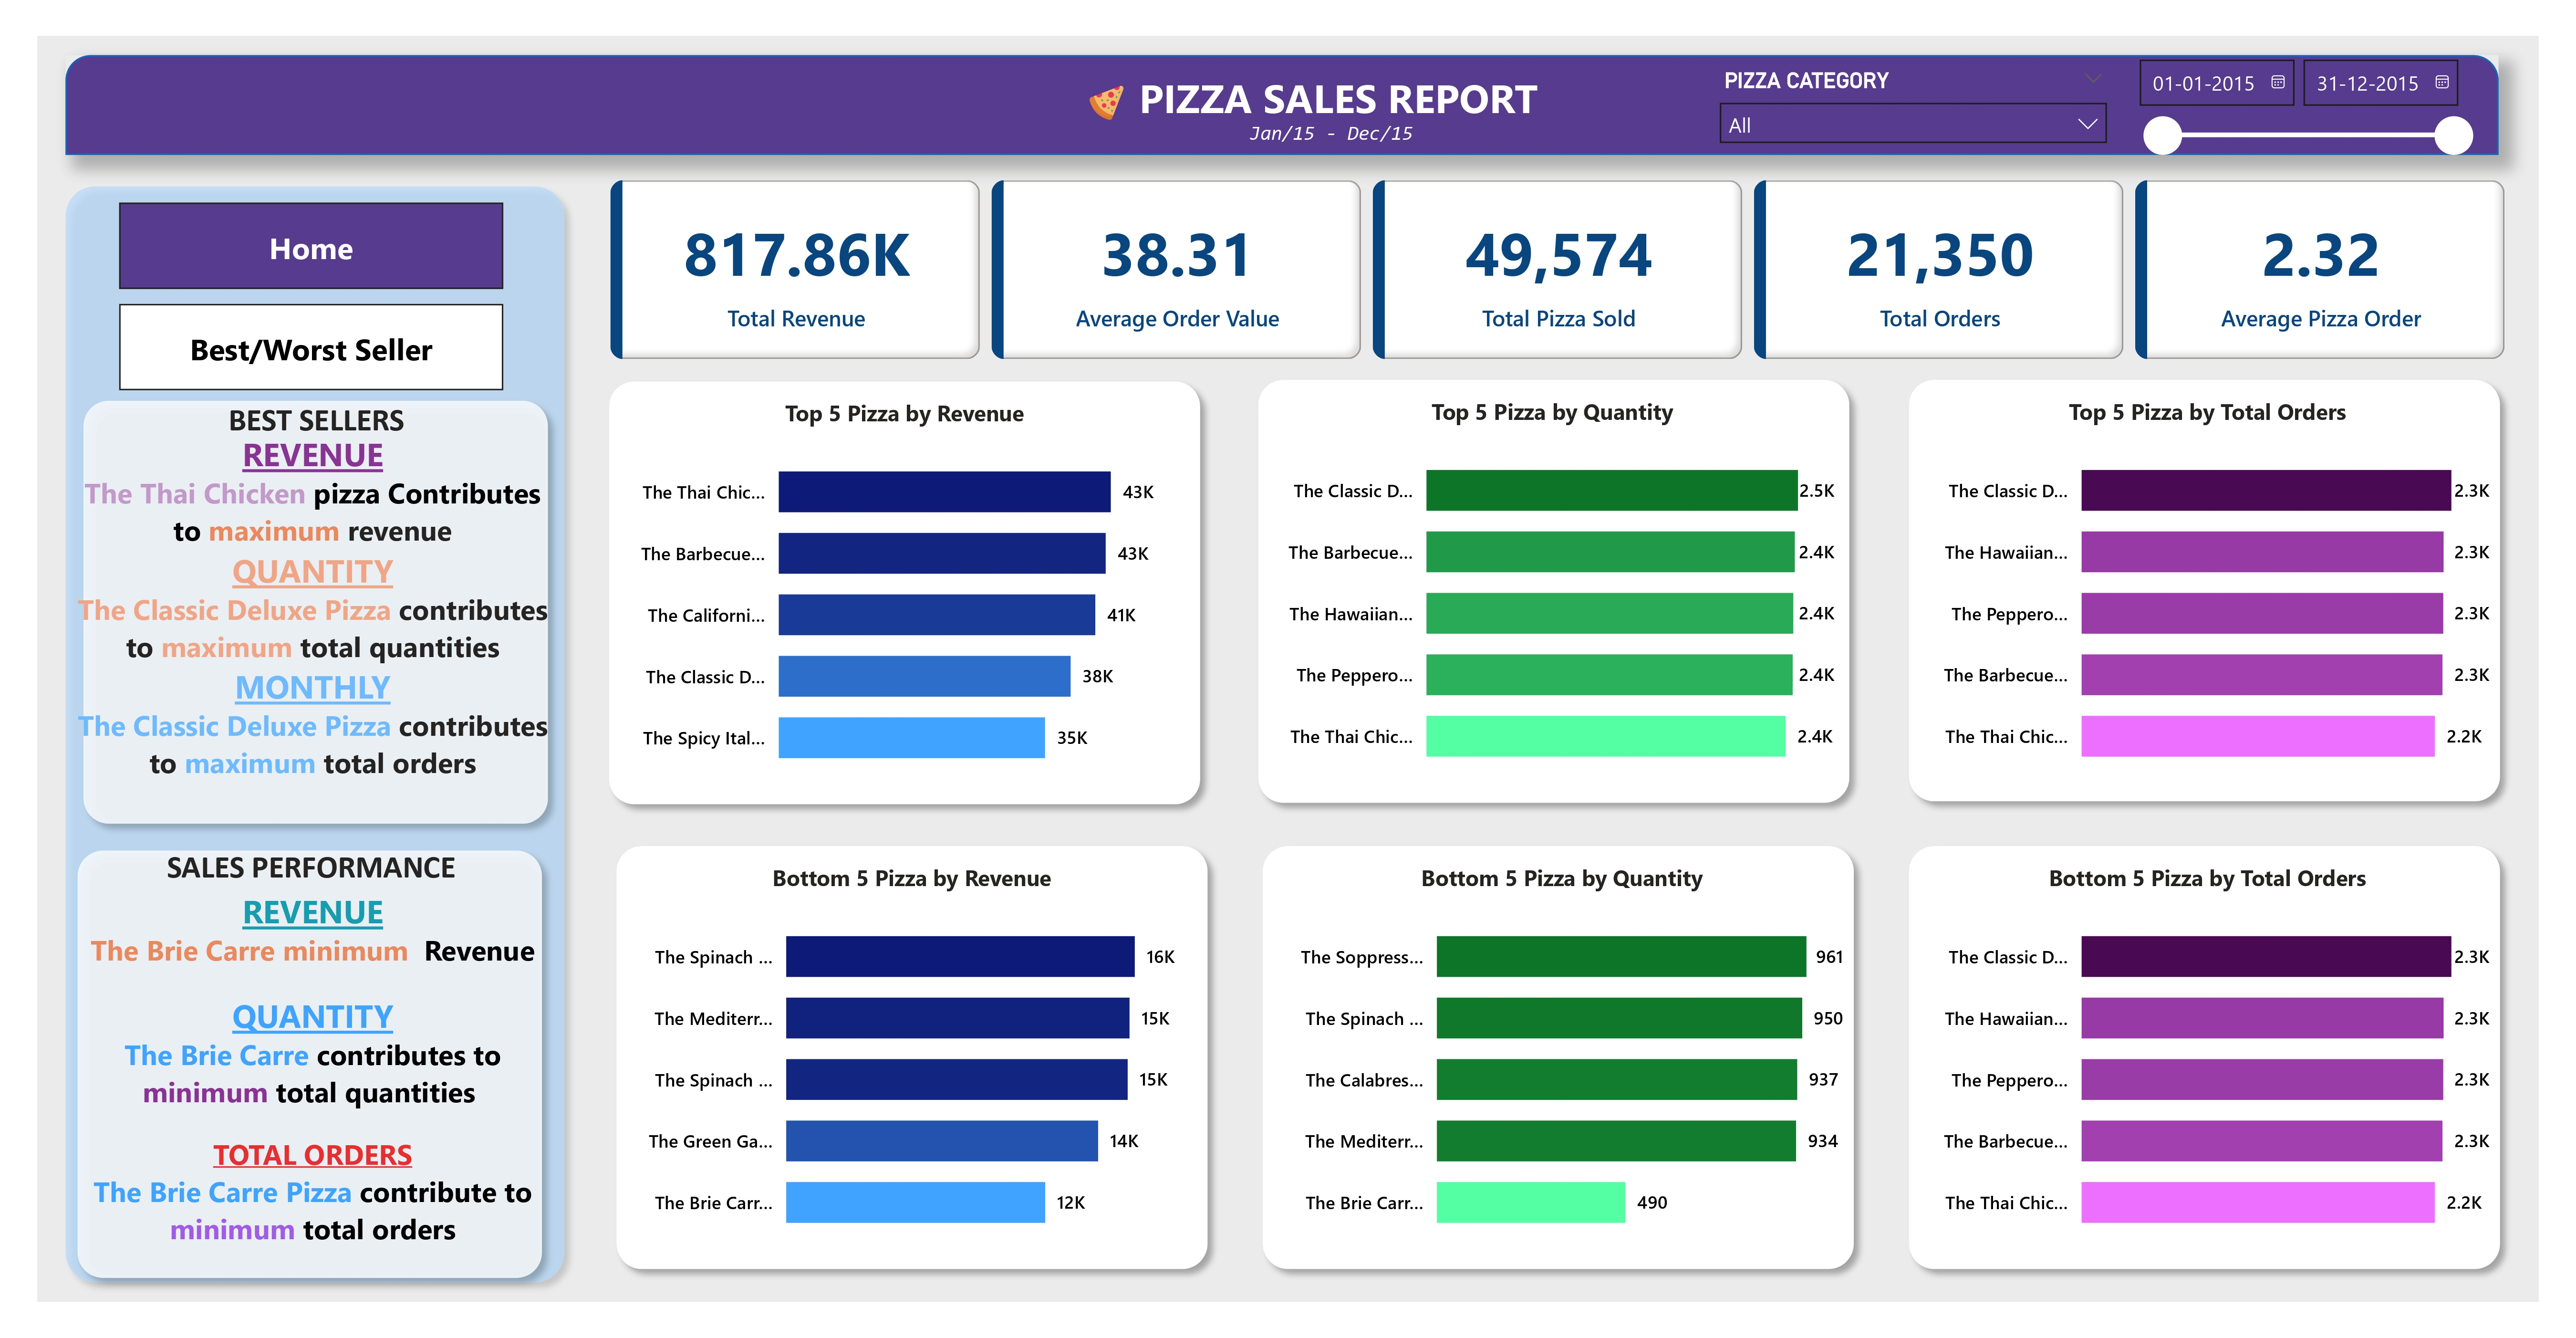

Layout of this report page (visuals, bound fields, positions):
{"tool":"powerbi","page":{"name":"Best/Worst Seller","canvas":[1680,850],"ordinal":1},"visuals":[{"type":"cardVisual","fields":{"Data":["Meas.Total Revenue","Meas.Average Order Value","Meas.Total Pizza Sold","Meas.Total Orders","Meas.Average Pizza Order"]},"box":[379.8,92.2,1283.3,130],"z":0},{"type":"shape","box":[18.6,12.9,1634.3,67.1],"z":1000},{"type":"textbox","box":[735.4,18.3,288.9,64.4],"z":2000},{"type":"textbox","box":[808.7,50.6,142.2,33.3],"z":3000},{"type":"image","box":[700.9,25,34.4,38.9],"z":4000},{"type":"shape","box":[374.5,222.6,415,302],"z":5000},{"type":"shape","box":[9.8,92.2,353.3,753.3],"z":6000},{"type":"shape","box":[21.7,236.4,330,301.7],"z":7000},{"type":"textbox","box":[68.3,239.7,238.3,41.7],"z":8000},{"type":"textbox","box":[21.7,261.4,326.7,275],"z":9000},{"type":"shape","box":[18.3,538.1,330,305],"z":10000},{"type":"textbox","box":[65,539.7,238.3,41.7],"z":11000},{"type":"textbox","box":[21.7,568.1,326.7,265],"z":12000},{"type":"slicer","fields":{"Values":["Pizza_sale.pizza_category"]},"box":[1120,16.7,280,60],"z":13000},{"type":"slicer","fields":{"Values":["Pizza_sale.order_date"]},"box":[1398.6,5.7,245.7,82.9],"z":14000},{"type":"shape","box":[1248.3,221.7,415,301.7],"z":15000},{"type":"shape","box":[811.4,221.7,415,302],"z":16000},{"type":"shape","box":[380,535.3,415,302],"z":17000},{"type":"shape","box":[1248.3,535.1,415,301.7],"z":18000},{"type":"shape","box":[814.2,535.3,415,302],"z":19000},{"type":"barChart","title":"Top  5 Pizza by Revenue","fields":{"Category":["Pizza_sale.pizza_name"],"Y":["Meas.Total Revenue"]},"box":[388.3,243.3,388.3,265],"z":20000},{"type":"barChart","title":"Bottom 5 Pizza by Revenue","fields":{"Category":["Pizza_sale.pizza_name"],"Y":["Meas.Total Revenue"]},"box":[393.3,555,388.3,265],"z":21000},{"type":"barChart","title":"Top  5 Pizza by Quantity","fields":{"Category":["Pizza_sale.pizza_name"],"Y":["Meas.Total Pizza Sold"]},"box":[823.3,241.7,388.3,265],"z":22000},{"type":"barChart","title":"Bottom 5 Pizza by Quantity","fields":{"Category":["Pizza_sale.pizza_name"],"Y":["Meas.Total Pizza Sold"]},"box":[830,555,388.3,265],"z":23000},{"type":"barChart","title":"Top  5 Pizza by Total Orders","fields":{"Category":["Pizza_sale.pizza_name"],"Y":["Meas.Total Orders"]},"box":[1263.3,241.7,388.3,265],"z":24000},{"type":"barChart","title":"Bottom 5 Pizza by Total Orders","fields":{"Category":["Pizza_sale.pizza_name"],"Y":["Meas.Total Orders"]},"box":[1263.3,555,388.3,265],"z":24001},{"type":"pageNavigator","box":[55,111.7,258.3,126.7],"z":24003}]}

Visuals, with their boxes on the page's 1680x850 design canvas (x1, y1, x2, y2). These are canvas units, not pixel positions in the 2576x1338 screenshot, which may show the page scaled, cropped or inside an application window:
cardVisual - Meas.Total Revenue x Meas.Average Order Value: region(380, 92, 1663, 222)
shape: region(19, 13, 1653, 80)
textbox: region(735, 18, 1024, 83)
textbox: region(809, 51, 951, 84)
image: region(701, 25, 735, 64)
shape: region(374, 223, 790, 525)
shape: region(10, 92, 363, 846)
shape: region(22, 236, 352, 538)
textbox: region(68, 240, 307, 281)
textbox: region(22, 261, 348, 536)
shape: region(18, 538, 348, 843)
textbox: region(65, 540, 303, 581)
textbox: region(22, 568, 348, 833)
slicer - Pizza_sale.pizza_category: region(1120, 17, 1400, 77)
slicer - Pizza_sale.order_date: region(1399, 6, 1644, 89)
shape: region(1248, 222, 1663, 523)
shape: region(811, 222, 1226, 524)
shape: region(380, 535, 795, 837)
shape: region(1248, 535, 1663, 837)
shape: region(814, 535, 1229, 837)
"Top  5 Pizza by Revenue" barChart: region(388, 243, 777, 508)
"Bottom 5 Pizza by Revenue" barChart: region(393, 555, 782, 820)
"Top  5 Pizza by Quantity" barChart: region(823, 242, 1212, 507)
"Bottom 5 Pizza by Quantity" barChart: region(830, 555, 1218, 820)
"Top  5 Pizza by Total Orders" barChart: region(1263, 242, 1652, 507)
"Bottom 5 Pizza by Total Orders" barChart: region(1263, 555, 1652, 820)
pageNavigator: region(55, 112, 313, 238)
